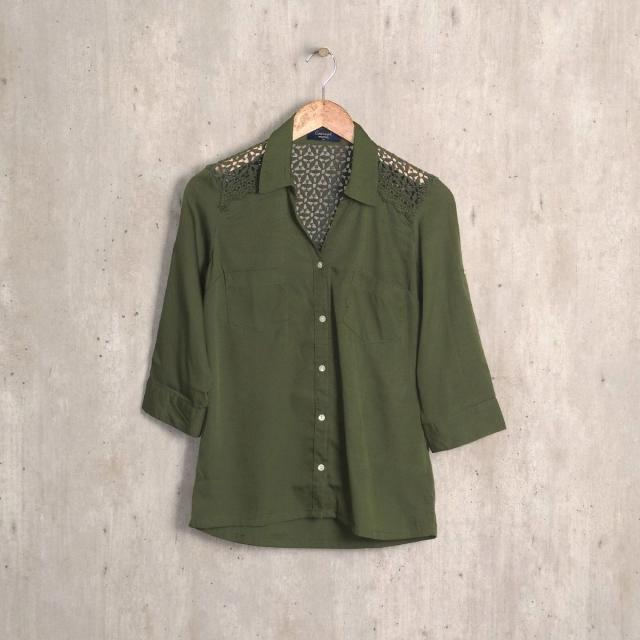long sleeve shirt: (136, 131, 510, 561)
